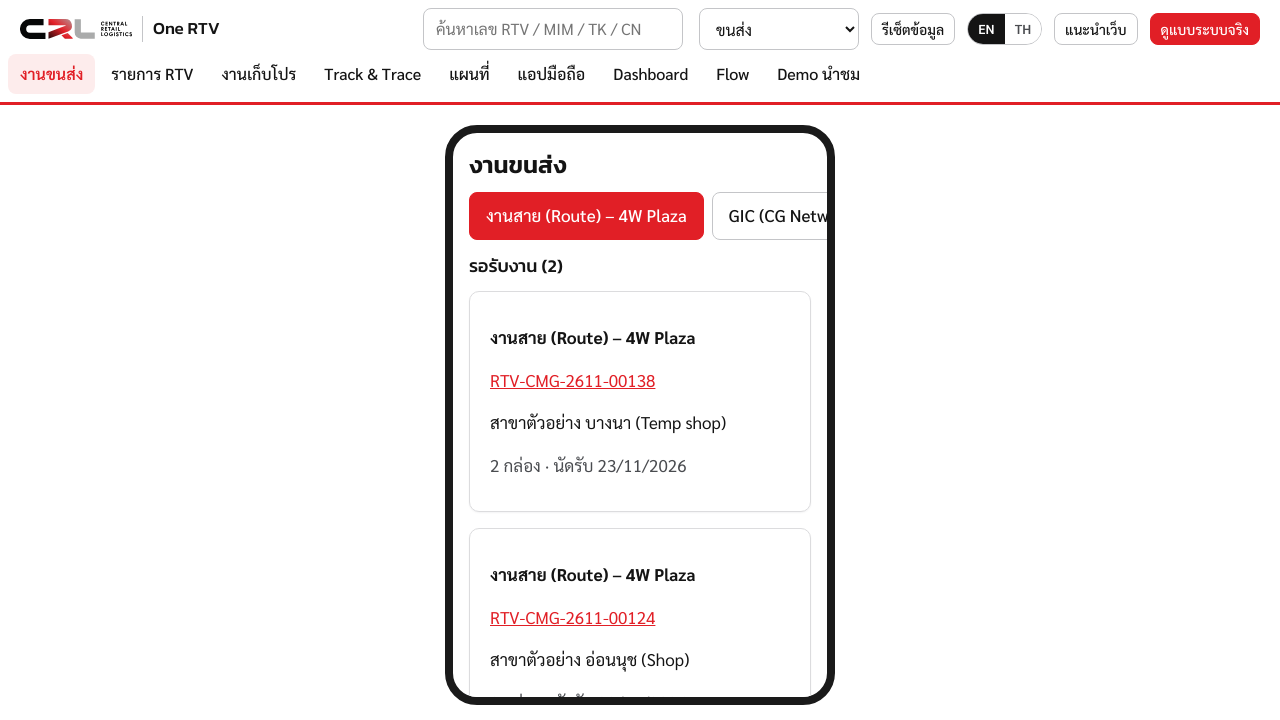
Test case: carrier sees only their carrier's jobs and can switch
Expected: the element with test id "job-card" shows "4W Plaza", 490,326 -> 695,348
Click the button "GIC (CG Network)" at (794, 216), box 712,192 -> 876,240
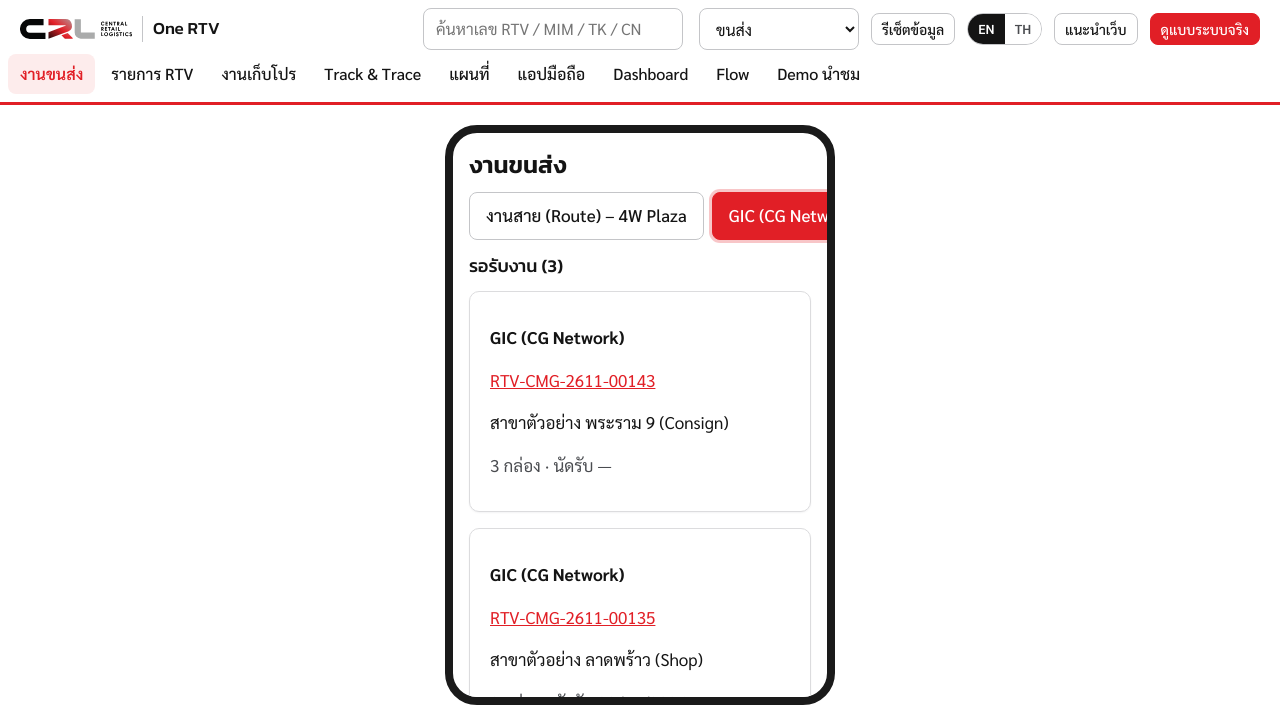
Result: the element with test id "job-card" shows "CG Network" at 490,326 -> 625,348
